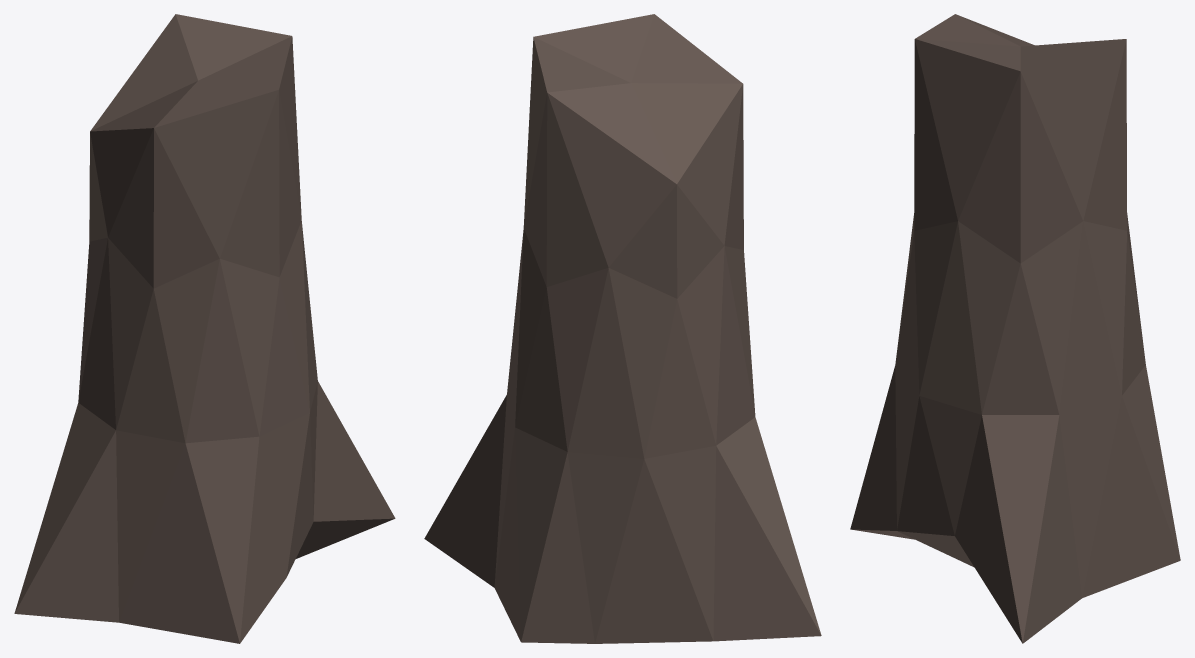
File: 2_2 Treetrunk.fbx
3 renders of one model, left to right at view 1: azimuth 30°, elevation 25°; view 2: azimuth 150°, elevation 25°; view 3: azimuth 270°, elevation 25°, orthographic. The views are drawn at different scales.
Parts seen in each view (by area): view 1: Tree_stump; view 2: Tree_stump; view 3: Tree_stump.
Boxes of the visible parts, <box> form: Tree_stump: <box>14,14,395,643</box>; Tree_stump: <box>424,14,821,643</box>; Tree_stump: <box>850,14,1180,643</box>.
Size of the model in its own units: 513 by 665 by 376.
